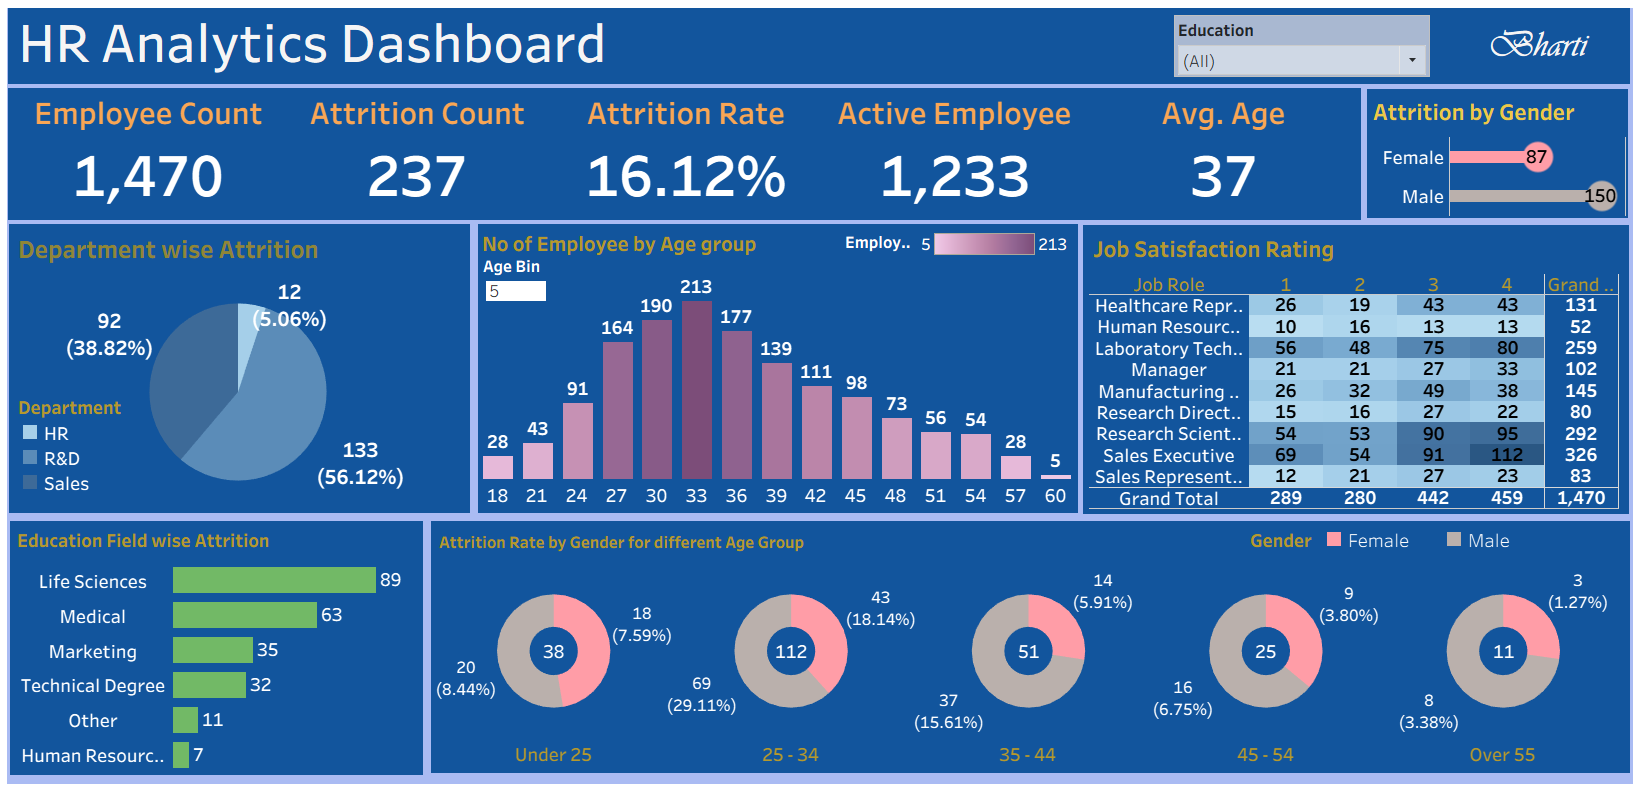

The page's visual inventory and layout, read from the dashboard file:
{"tool":"tableau","page":{"name":"HR Analytics Dashboard","canvas":[1650,800],"ordinal":0},"visuals":[{"type":"blank","box":[8,8,1634,784]},{"type":"text","box":[19,11,739,67]},{"type":"filter","title":"KPI","param":"[federated.0t8tm480zjxkf513f3kgh1t62qo8].[none:Education:nk]","box":[1179,19,256,62]},{"type":"text","box":[1489,19,125,60]},{"type":"worksheet","title":"KPI","mark":"Automatic","box":[19,96,1344,123]},{"type":"worksheet","title":"Attrition by Gender","mark":"Automatic","rows":["Gender"],"cols":["Calculation_1699625434701824","Calculation_1699625434701824"],"box":[1374,96,257,124]},{"type":"worksheet","title":"No of Employee by Age group","mark":"Automatic","rows":["Employee Count"],"cols":["Age (bin)"],"box":[483,229,598,283]},{"type":"worksheet","title":"Department wise Attrition","mark":"Pie","box":[19,232,448,280]},{"type":"legend","title":"No of Employee by Age group","param":"[federated.0t8tm480zjxkf513f3kgh1t62qo8].[sum:Employee Count:qk]","box":[850,233,227,39]},{"type":"worksheet","title":"Job Satisfaction Rating","mark":"Square","rows":["Job Role"],"cols":["Job Satisfaction"],"box":[1094,233,530,280]},{"type":"parameter","param":"[Parameters].[Parameter 1436567637241857]","box":[488,259,66,51]},{"type":"legend","title":"Department wise Attrition","param":"[federated.0t8tm480zjxkf513f3kgh1t62qo8].[none:Department:nk]","box":[23,398,115,108]},{"type":"worksheet","title":"Education Field wise Attrition","mark":"Automatic","rows":["Education Field"],"cols":["Calculation_1699625434701824"],"box":[18,527,404,249]},{"type":"worksheet","title":"Attrition Rate by Gender for different Age Group","mark":"Pie","rows":["Calculation_1565485120106497","Calculation_1565485120106497"],"cols":["CF_age band"],"box":[440,531,1187,240]},{"type":"legend","title":"Attrition Rate by Gender for different Age Group","param":"[federated.0t8tm480zjxkf513f3kgh1t62qo8].[none:Gender:nk]","box":[1255,531,368,31]}]}

Visuals, with their boxes in screenshot pixels (x1, y1, x2, y2), scaled from the page's 1650x800 canvas onto the 1639x792 screenshot:
blank: (8, 8, 1631, 784)
text: (19, 11, 753, 77)
"KPI" filter: (1171, 19, 1425, 80)
text: (1479, 19, 1603, 78)
"KPI" worksheet: (19, 95, 1354, 217)
"Attrition by Gender" worksheet: (1365, 95, 1620, 218)
"No of Employee by Age group" worksheet: (480, 227, 1074, 507)
"Department wise Attrition" worksheet (Pie marks): (19, 230, 464, 507)
"No of Employee by Age group" legend: (844, 231, 1070, 269)
"Job Satisfaction Rating" worksheet (Square marks): (1087, 231, 1613, 508)
parameter: (485, 256, 550, 307)
"Department wise Attrition" legend: (23, 394, 137, 501)
"Education Field wise Attrition" worksheet: (18, 522, 419, 768)
"Attrition Rate by Gender for different Age Group" worksheet (Pie marks): (437, 526, 1616, 763)
"Attrition Rate by Gender for different Age Group" legend: (1247, 526, 1612, 556)
